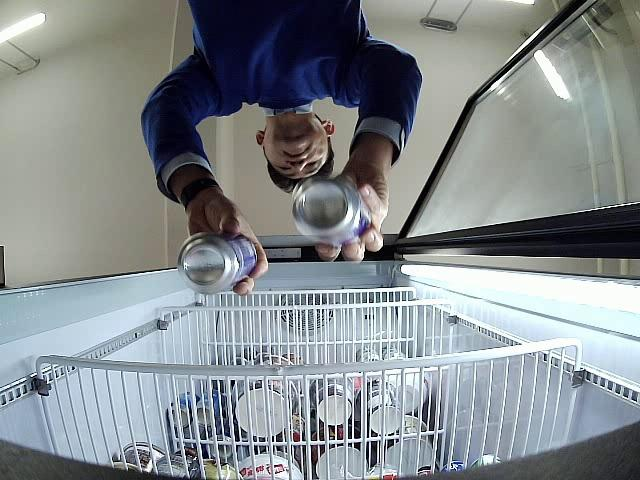00_hand: (315, 148, 393, 263), (186, 193, 269, 296)
14_welchsGrape: (178, 232, 258, 294), (292, 178, 371, 240)
